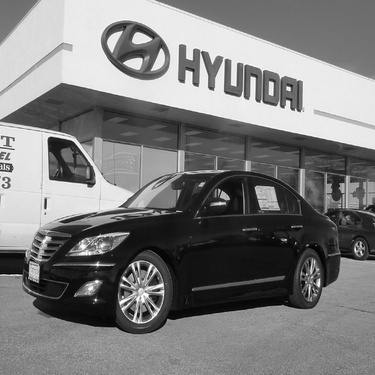car: (21, 161, 352, 324), (320, 197, 375, 261)
